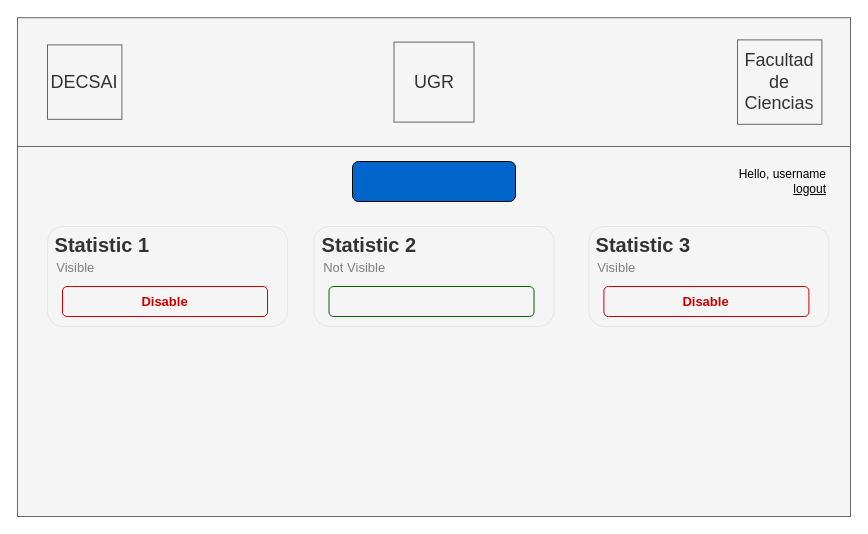
Image size: 868x534. Some labels were removed from this diagram. The centre of each missing label's shape, as x and y in pixels:
Enable: the point at 431,301
Manage Users: the point at 434,181
